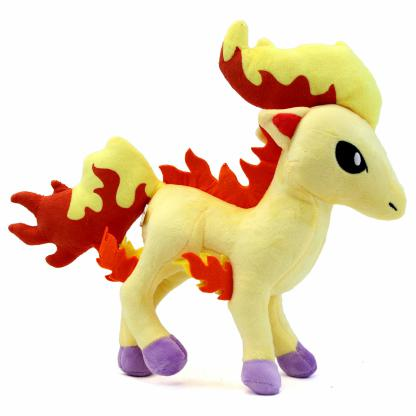Ponyta: (16, 22, 406, 402)
